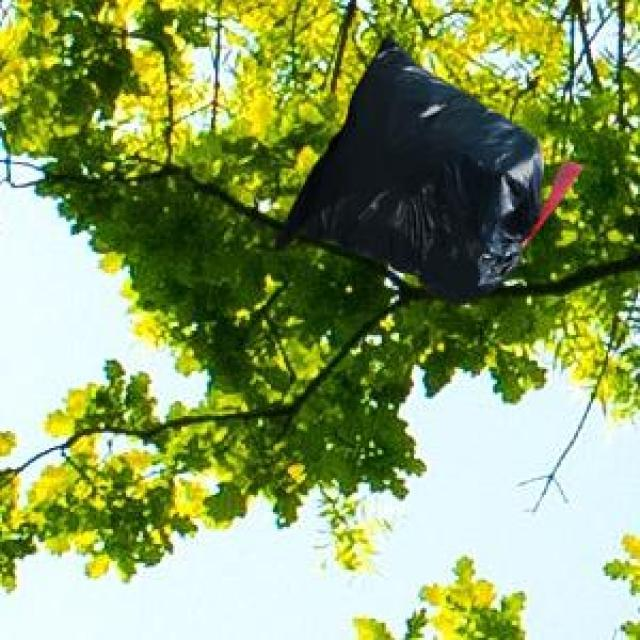garbage_bag: (271, 34, 581, 300)
